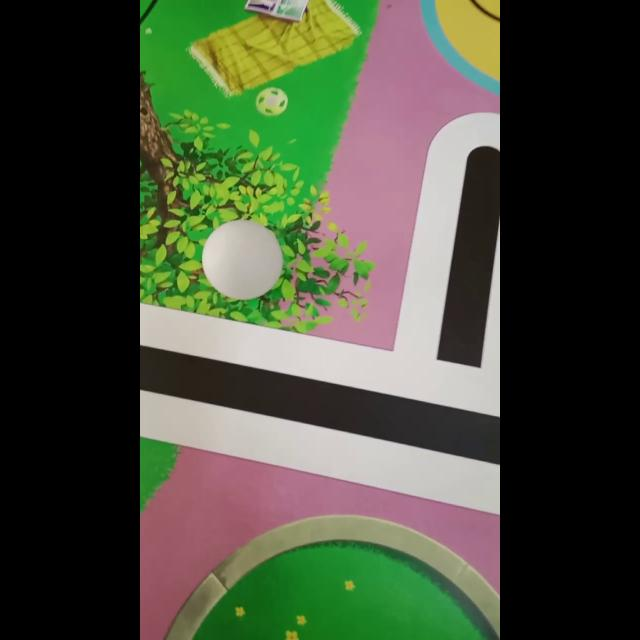white ball: (200, 219, 284, 301)
